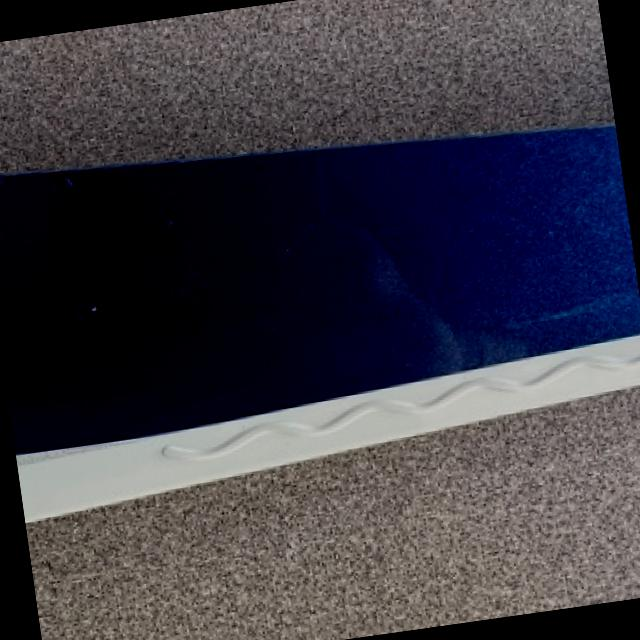healthy: (0, 124, 640, 517)
